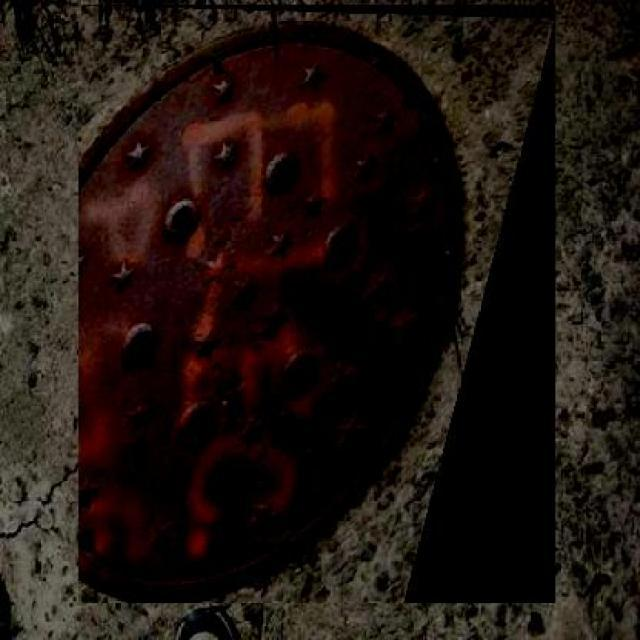Manhole: (78, 4, 556, 604)
